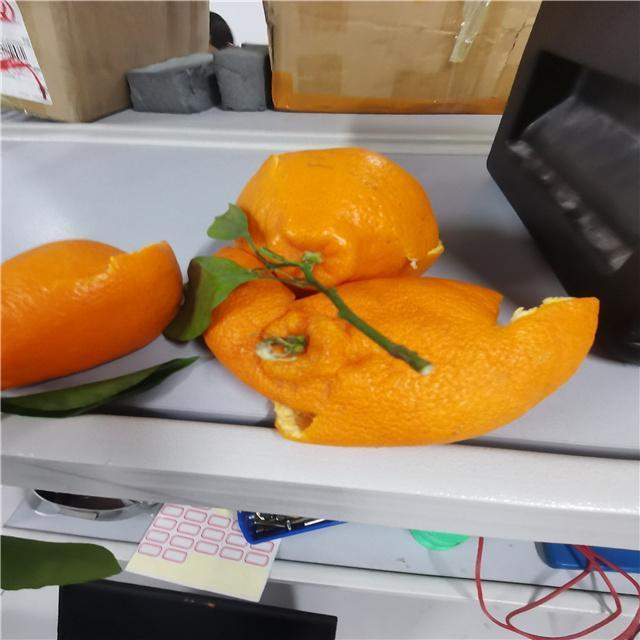orange peel: (203, 274, 601, 449), (208, 148, 444, 276), (0, 236, 186, 387)
